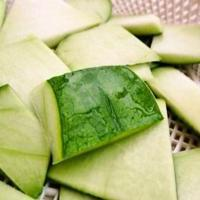biodegradable: (43, 65, 165, 166), (149, 22, 200, 66)
